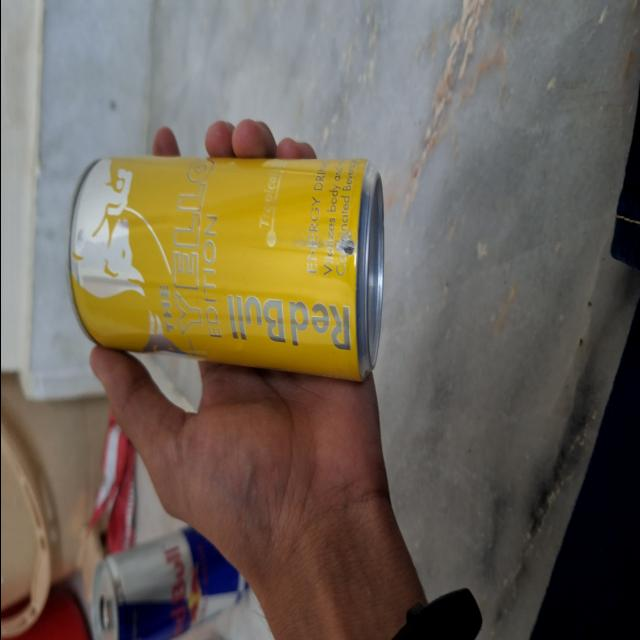Redbull Yellow Edition: (63, 155, 390, 377)
